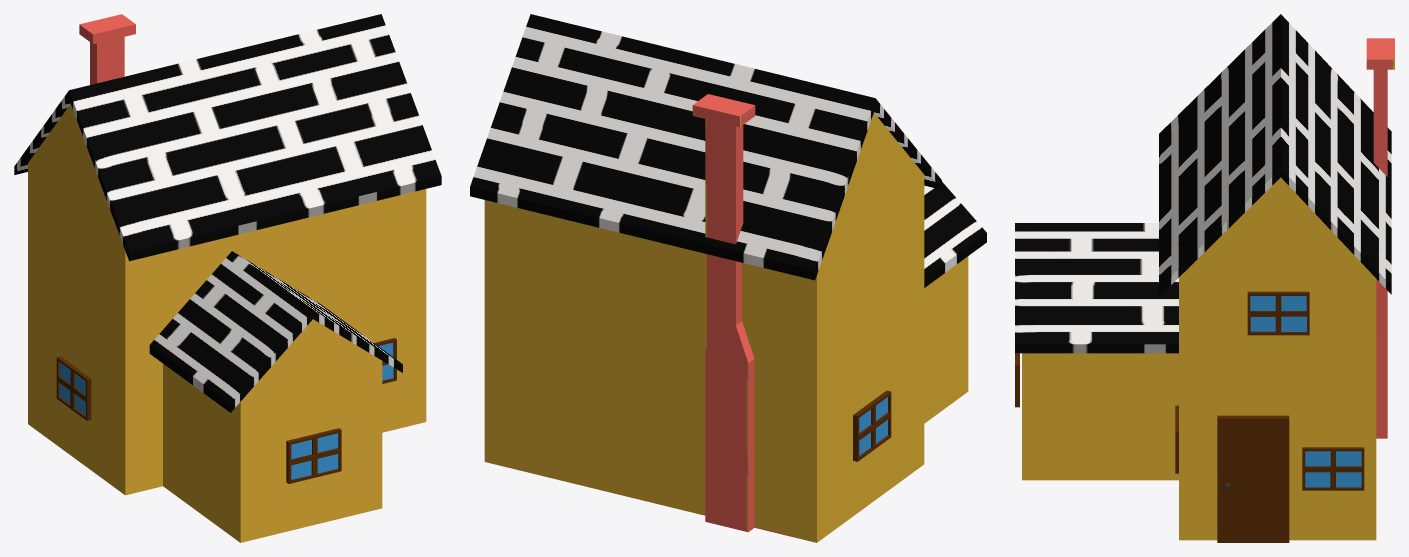
The model's file is House1.fbx.
3 renders of one model, left to right at view 1: azimuth 30°, elevation 25°; view 2: azimuth 150°, elevation 25°; view 3: azimuth 270°, elevation 25°, orthographic. The views are drawn at different scales.
Visible parts, largest first — view 1: WAlls.003, Roof.004, WindowPane.012, WindowGlass.012, WindowPane.013, WindowGlass.013; view 2: WAlls.003, Roof.004, WindowPane.013, WindowGlass.013; view 3: WAlls.003, Roof.004, Door.003, WindowGlass.011, WindowGlass.015, WindowPane.015, WindowPane.011.
Boxes of the visible parts, x1,y1,x2,y2 form: WAlls.003: (28, 14, 426, 542); Roof.004: (14, 14, 441, 412); WindowPane.012: (286, 428, 341, 483); WindowGlass.012: (291, 433, 338, 479); WindowPane.013: (56, 356, 91, 420); WindowGlass.013: (59, 362, 85, 415); WAlls.003: (484, 94, 968, 542); Roof.004: (470, 14, 986, 287); WindowPane.013: (853, 390, 891, 461); WindowGlass.013: (859, 397, 887, 455); WAlls.003: (1022, 38, 1394, 540); Roof.004: (1015, 14, 1391, 353); Door.003: (1217, 415, 1289, 542); WindowGlass.011: (1305, 451, 1361, 487); WindowGlass.015: (1250, 296, 1306, 331); WindowPane.015: (1247, 291, 1309, 335); WindowPane.011: (1302, 447, 1364, 490).
Bounding box in the file's own units: 426 × 474 × 416.
